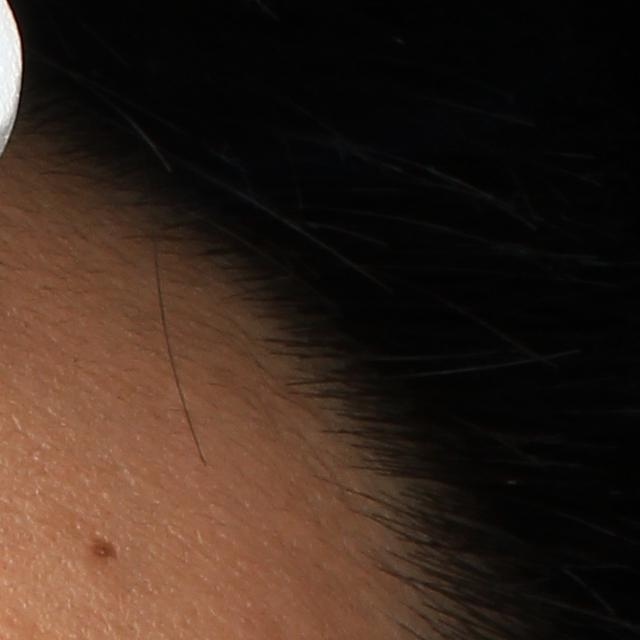nevus: (89, 529, 116, 562)
